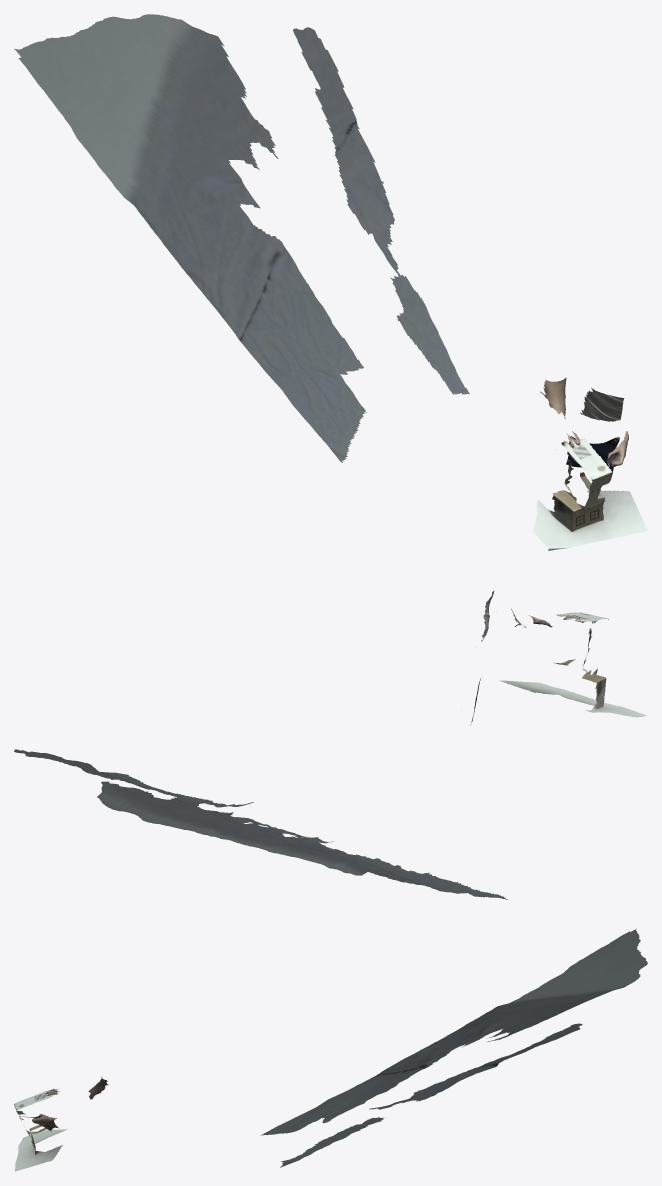
The picture shows the model from 3 angles, top to bottom: view 1: azimuth 30°, elevation 25°; view 2: azimuth 150°, elevation 25°; view 3: azimuth 270°, elevation 25°; orthographic projection. The views are drawn at different scales.
Visible parts, largest first — view 1: world; view 2: world; view 3: world.
Boxes of the visible parts, bbox=[...] form: world: bbox=[14, 14, 647, 550]; world: bbox=[14, 590, 646, 899]; world: bbox=[14, 929, 647, 1171].
Bounding box in the file's own units: 1.34 × 1.22 × 3.83.
Materials: 1 (1 with a texture image).
